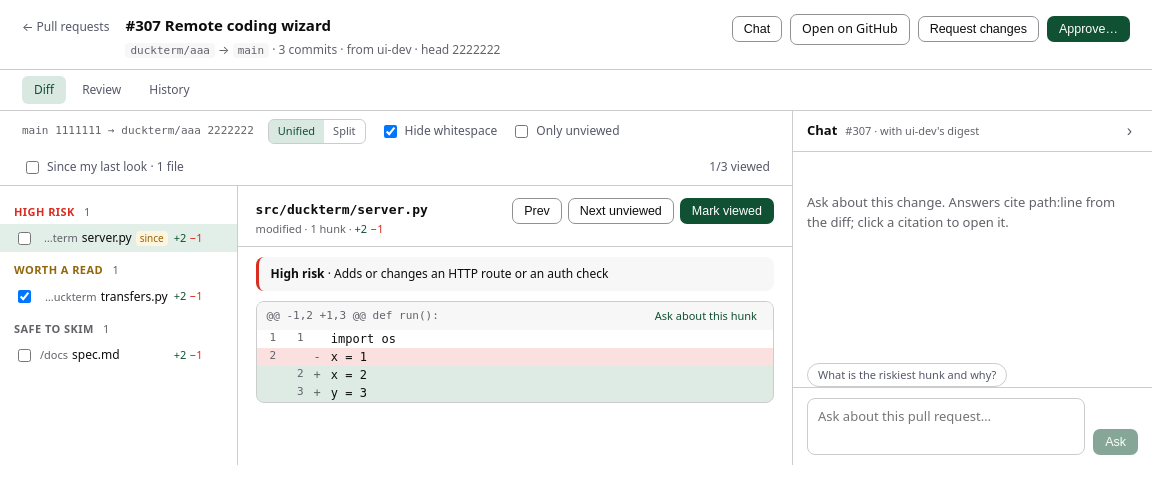
Scenario: groups files by risk, explains the bucket, and marks a file viewed by its hunk hash
Check: the heading "#307 Remote coding wizard" is shown, box [125,15,331,35]
Check: the headings read "High risk 1", "Worth a read 1", "Safe to skim 1", in this order, box [14,204,91,218]; [14,262,119,277]; [14,320,110,336]
Step 1. Click the button "Mark viewed" → (727,210), box [680,198,774,224]
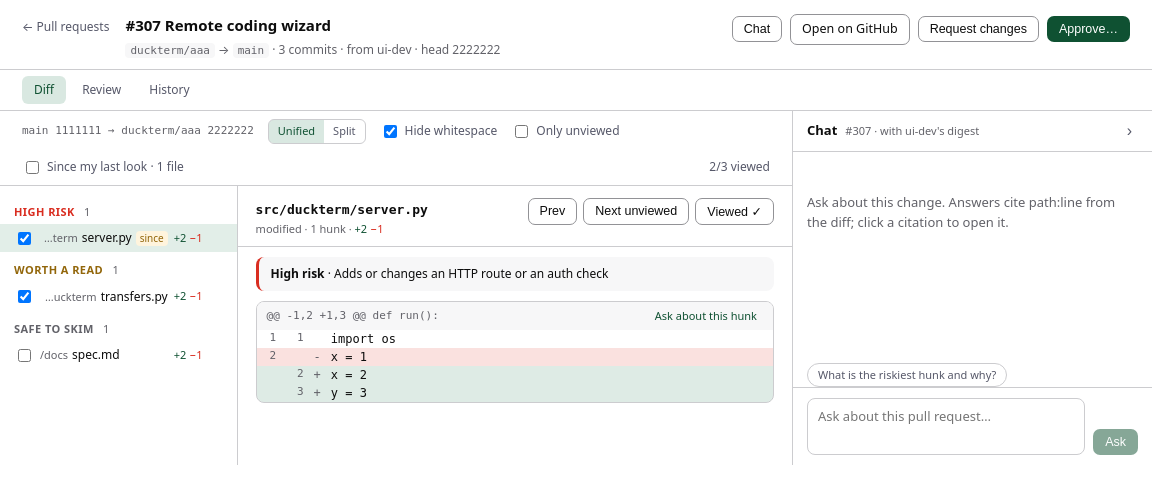
Check: the text "2/3 viewed" is shown, box [709,158,770,176]
Check: the checkbox named "Viewed src/duckterm/server.py" is checked, box [18,232,31,244]
// Next unviewed skips the already viewed transfers.py and lands on the doc.
Step 2. Click the button "Next unviewed" → (636,211), box [583,198,689,224]
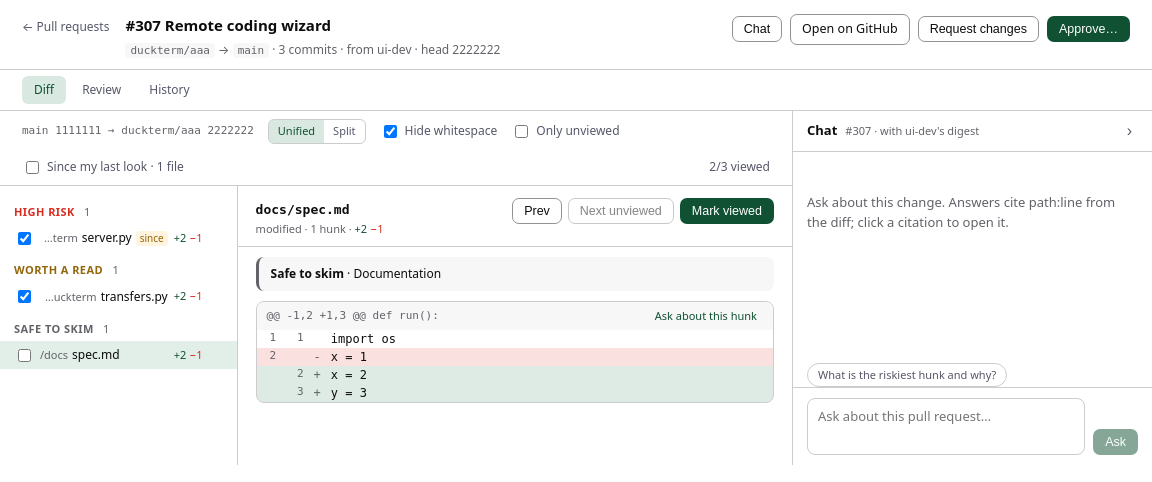
Check: the element "docs/spec.md" is shown, box [238,186,792,465]
// Only unviewed hides the two viewed files.
Step 3. Click the checkbox labelled "Only unviewed" → (522,131), box [515,125,528,138]
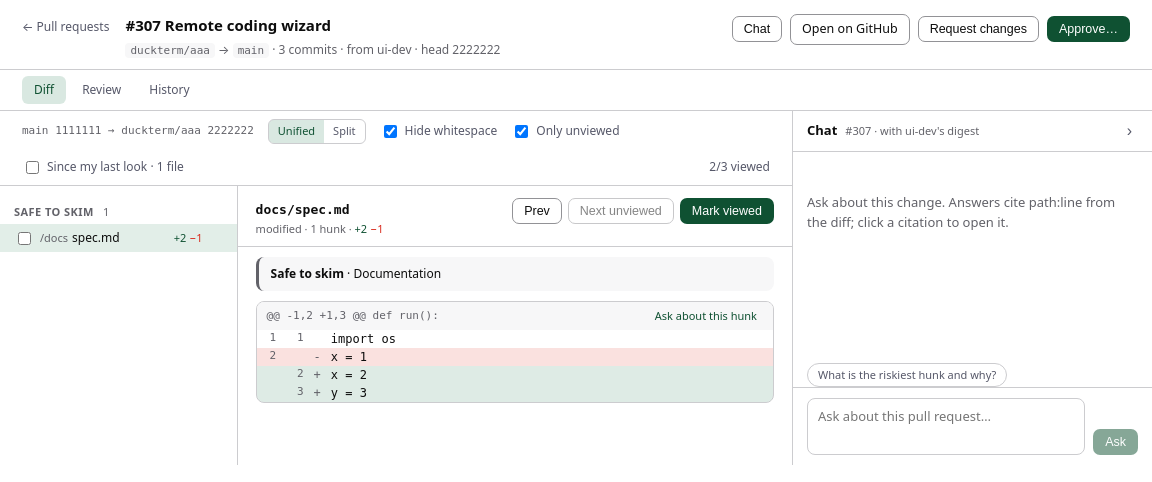
Check: the text "spec.md" is shown, box [72,229,120,247]
Check: the button "server.py" is gone
